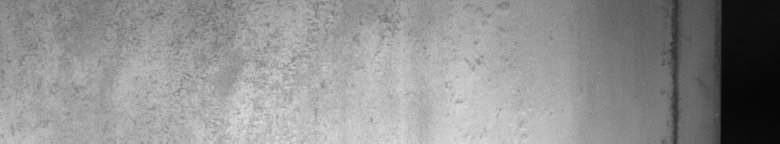hd: (672, 4, 678, 136)
